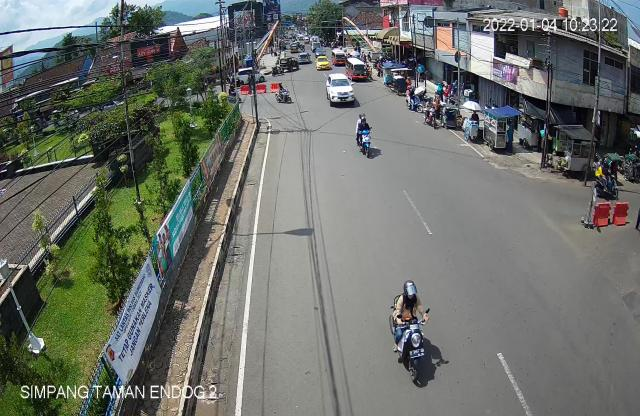Mobil: (323, 70, 359, 112)
Motor: (386, 278, 435, 386), (590, 154, 626, 202), (351, 108, 382, 160), (273, 80, 295, 107)
